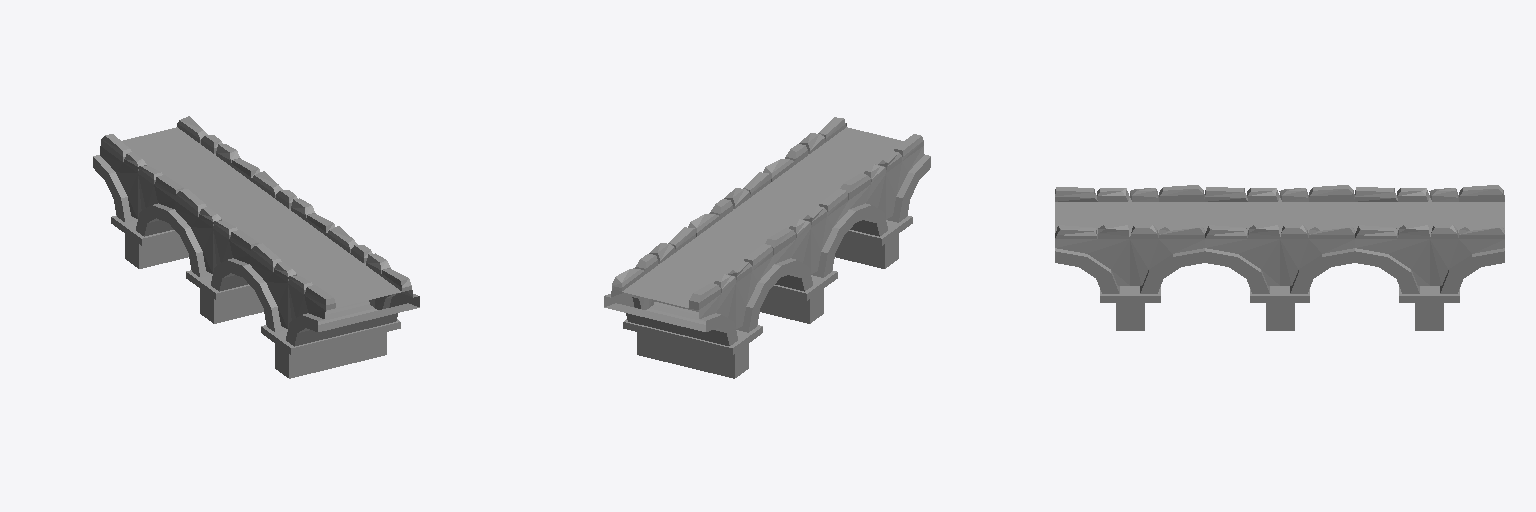
The model's file is bridge.obj.
3 views of the same model, side by side, from view 1: azimuth 30°, elevation 25°; view 2: azimuth 150°, elevation 25°; view 3: azimuth 270°, elevation 25° (orthographic).
Visible parts, largest first — view 1: Tube01; view 2: Tube01; view 3: Tube01.
Part boxes in pixels (x1,y1,x2,y2): Tube01: (93, 116, 419, 378); Tube01: (604, 117, 930, 378); Tube01: (1055, 185, 1504, 330).
Size of the model in its own units: 3.06 by 2.72 by 10.9.